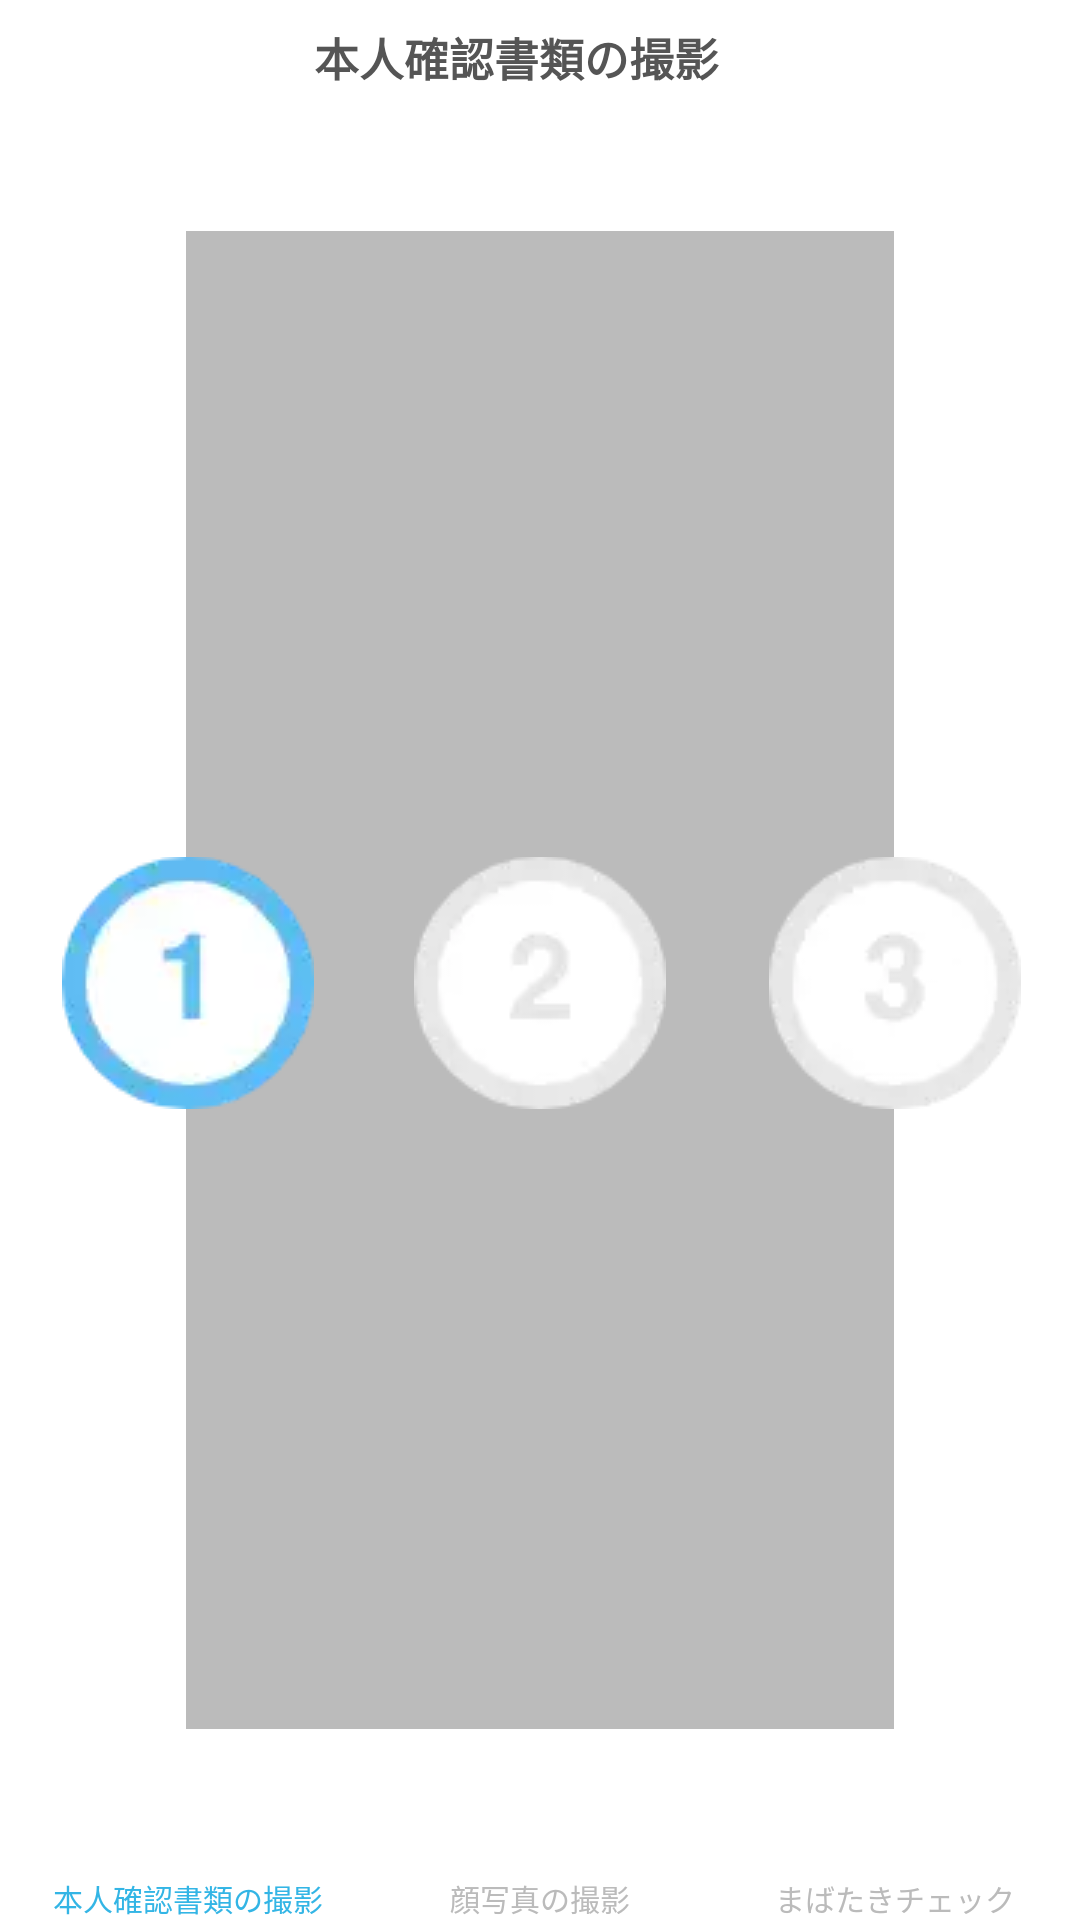

Screen size 1080w x 1920h. Icon name, then its center in pixels as (x,y):
progress: (188,983), (540,983), (895,983)
